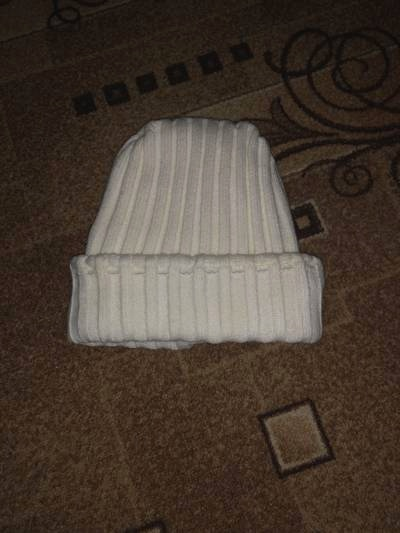Hat: (60, 98, 361, 384)
